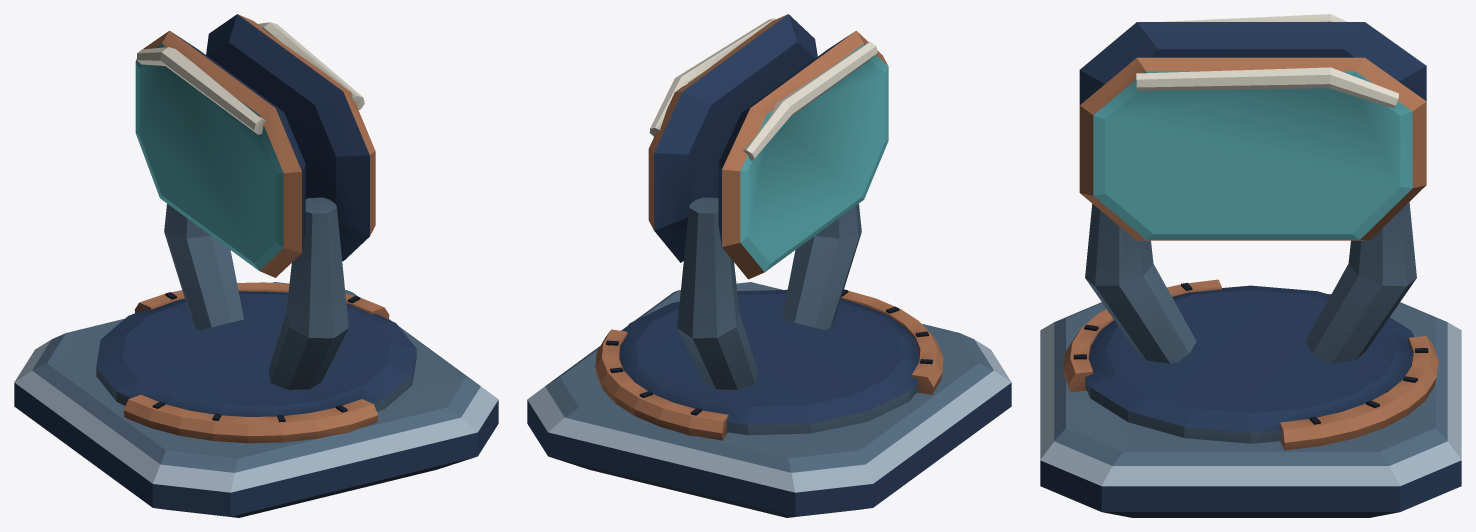
The model's file is dualReflector.glb.
3 renders of one model, left to right at view 1: azimuth 30°, elevation 25°; view 2: azimuth 150°, elevation 25°; view 3: azimuth 270°, elevation 25°, orthographic. The views are drawn at different scales.
Parts seen in each view (by area): view 1: dualReflector; view 2: dualReflector; view 3: dualReflector.
Boxes of the visible parts, x1=… form: dualReflector: x1=14, y1=14, x2=498, y2=517; dualReflector: x1=527, y1=14, x2=1011, y2=517; dualReflector: x1=1040, y1=14, x2=1461, y2=517.
Bounding box in the file's own units: 0.98 × 1.01 × 0.96.
